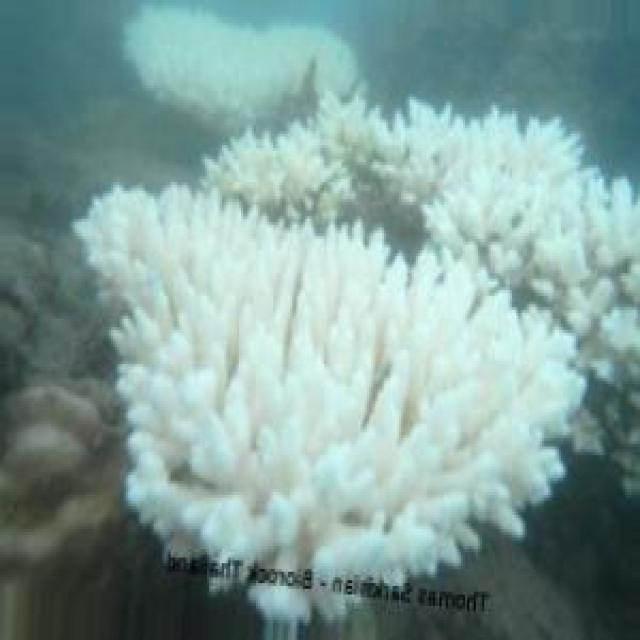bleached coral: (78, 190, 581, 578), (364, 100, 640, 322), (151, 43, 354, 137), (205, 98, 365, 204), (401, 358, 516, 469), (128, 367, 226, 486), (83, 191, 166, 321), (535, 179, 634, 284), (252, 373, 346, 478), (380, 168, 506, 245), (305, 233, 384, 336), (196, 228, 271, 316), (316, 521, 397, 580)
